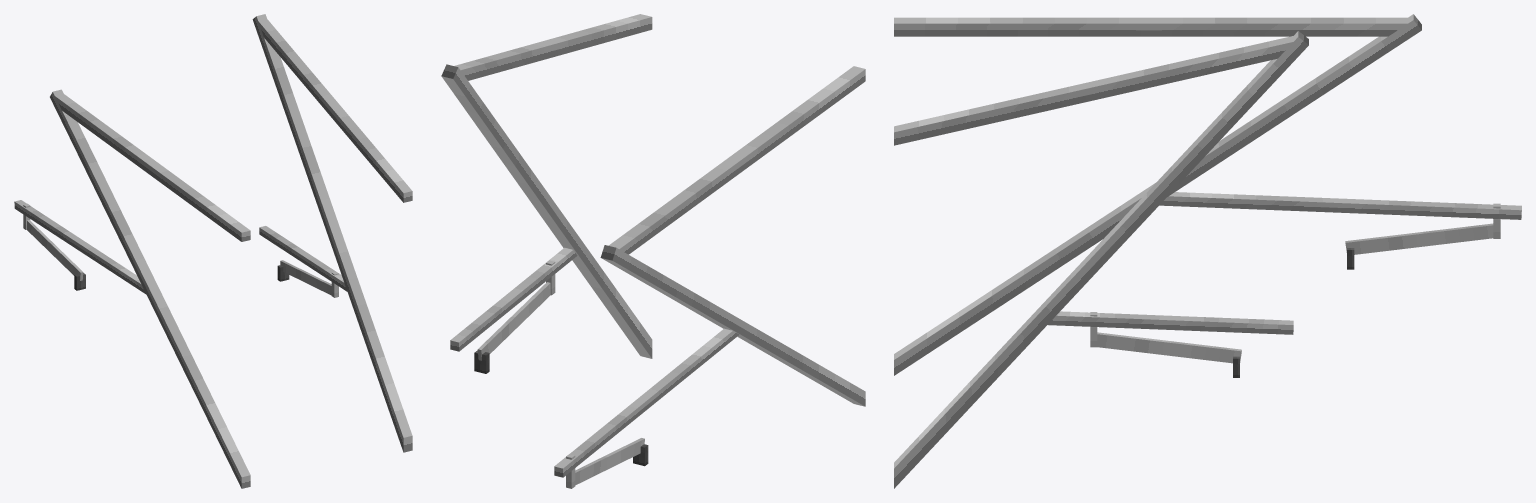
The model's file is cantilever_center_8px.obj.
3 views of the same model, side by side, from view 1: azimuth 30°, elevation 25°; view 2: azimuth 150°, elevation 25°; view 3: azimuth 270°, elevation 25° (orthographic). The views are drawn at different scales.
Visible parts, largest first — view 1: 79a2b13d-21d6-4e19-ab94-cfa8a634c090, 9da549c7-ef98-4a7f-9e1c-c421fbff9175, dd58ffa2-b050-4239-b8c7-157f42e490ea, 168b749c-cfaa-487f-bdf6-43d6f11c2c42, 9a22af92-6d45-4ad3-ba21-33f476bb109f, b303da6e-0950-453c-bcfd-7ff8b1907052, af00da73-b55c-4d00-b84d-7667a72e4cf6, d22e6cee-6e0d-4e6b-a226-7ec5363f1a45; view 2: 79a2b13d-21d6-4e19-ab94-cfa8a634c090, dd58ffa2-b050-4239-b8c7-157f42e490ea, 9da549c7-ef98-4a7f-9e1c-c421fbff9175, 168b749c-cfaa-487f-bdf6-43d6f11c2c42, 9a22af92-6d45-4ad3-ba21-33f476bb109f, b303da6e-0950-453c-bcfd-7ff8b1907052, d22e6cee-6e0d-4e6b-a226-7ec5363f1a45, af00da73-b55c-4d00-b84d-7667a72e4cf6; view 3: 79a2b13d-21d6-4e19-ab94-cfa8a634c090, 9da549c7-ef98-4a7f-9e1c-c421fbff9175, dd58ffa2-b050-4239-b8c7-157f42e490ea, 168b749c-cfaa-487f-bdf6-43d6f11c2c42, 9a22af92-6d45-4ad3-ba21-33f476bb109f, b303da6e-0950-453c-bcfd-7ff8b1907052, af00da73-b55c-4d00-b84d-7667a72e4cf6, d22e6cee-6e0d-4e6b-a226-7ec5363f1a45.
Boxes of the visible parts, box(x1,y1,x2,y2) form: 79a2b13d-21d6-4e19-ab94-cfa8a634c090: box(252, 14, 412, 452); 9da549c7-ef98-4a7f-9e1c-c421fbff9175: box(50, 89, 250, 488); dd58ffa2-b050-4239-b8c7-157f42e490ea: box(55, 94, 250, 241); 168b749c-cfaa-487f-bdf6-43d6f11c2c42: box(258, 19, 412, 202); 9a22af92-6d45-4ad3-ba21-33f476bb109f: box(14, 200, 146, 294); b303da6e-0950-453c-bcfd-7ff8b1907052: box(259, 226, 347, 291); af00da73-b55c-4d00-b84d-7667a72e4cf6: box(27, 220, 83, 280); d22e6cee-6e0d-4e6b-a226-7ec5363f1a45: box(280, 260, 331, 295); 79a2b13d-21d6-4e19-ab94-cfa8a634c090: box(441, 64, 652, 358); dd58ffa2-b050-4239-b8c7-157f42e490ea: box(608, 66, 865, 254); 9da549c7-ef98-4a7f-9e1c-c421fbff9175: box(600, 245, 865, 406); 168b749c-cfaa-487f-bdf6-43d6f11c2c42: box(454, 14, 652, 80); 9a22af92-6d45-4ad3-ba21-33f476bb109f: box(554, 328, 739, 477); b303da6e-0950-453c-bcfd-7ff8b1907052: box(450, 247, 577, 351); d22e6cee-6e0d-4e6b-a226-7ec5363f1a45: box(477, 282, 550, 360); af00da73-b55c-4d00-b84d-7667a72e4cf6: box(575, 438, 644, 485); 79a2b13d-21d6-4e19-ab94-cfa8a634c090: box(894, 31, 1308, 488); 9da549c7-ef98-4a7f-9e1c-c421fbff9175: box(894, 14, 1421, 375); dd58ffa2-b050-4239-b8c7-157f42e490ea: box(894, 17, 1407, 36); 168b749c-cfaa-487f-bdf6-43d6f11c2c42: box(894, 36, 1293, 145); 9a22af92-6d45-4ad3-ba21-33f476bb109f: box(1159, 192, 1521, 219); b303da6e-0950-453c-bcfd-7ff8b1907052: box(1048, 311, 1293, 334); af00da73-b55c-4d00-b84d-7667a72e4cf6: box(1345, 223, 1493, 254); d22e6cee-6e0d-4e6b-a226-7ec5363f1a45: box(1097, 332, 1241, 363).
Bounding box in the file's own units: 1.19 × 2.18 × 2.75.
